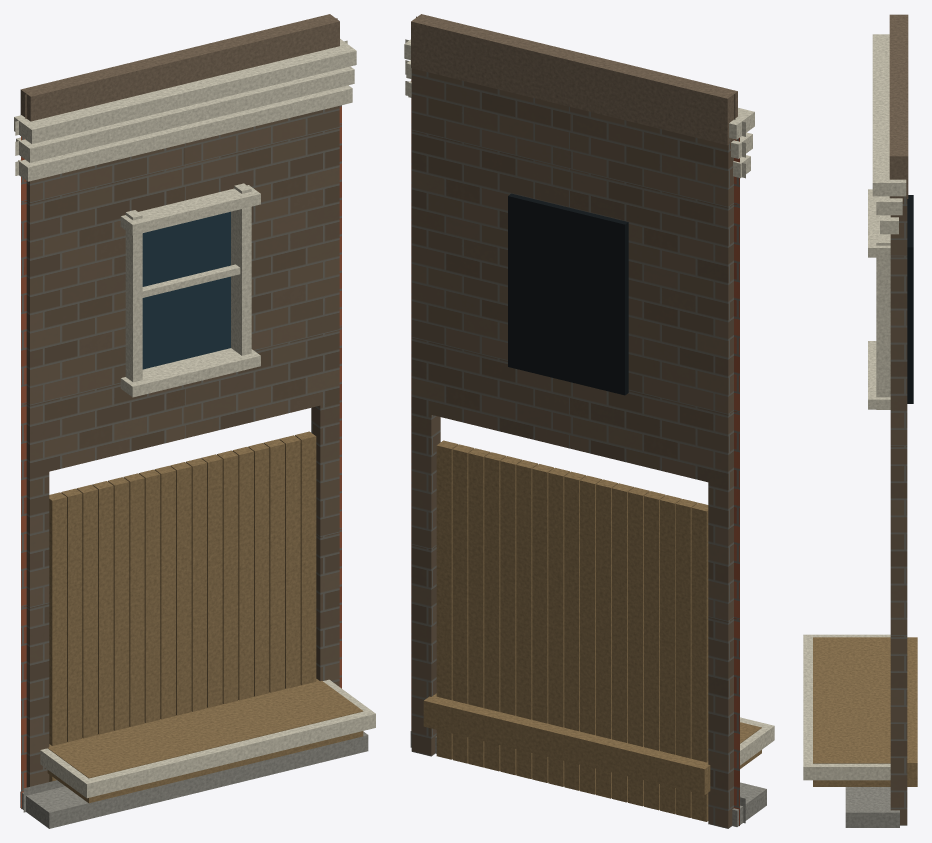
Rendered from WHSE18_lod2.glb.
The picture shows the model from 3 angles, left to right: view 1: azimuth 30°, elevation 25°; view 2: azimuth 150°, elevation 25°; view 3: azimuth 270°, elevation 25°; orthographic projection. The views are drawn at different scales.
Parts seen in each view (by area): view 1: WHSE18_FRONT_LOD2; view 2: WHSE18_FRONT_LOD2; view 3: WHSE18_FRONT_LOD2.
Part boxes in pixels (box(x1,y1,x2,y2)): WHSE18_FRONT_LOD2: box(14, 14, 375, 828); WHSE18_FRONT_LOD2: box(404, 14, 774, 828); WHSE18_FRONT_LOD2: box(803, 14, 917, 827).
Size of the model in its own units: 3.44 by 7.05 by 1.1.
9 materials, 7 textured.
